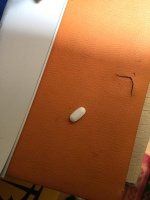Centik Buskopan: (69, 106, 86, 123)
